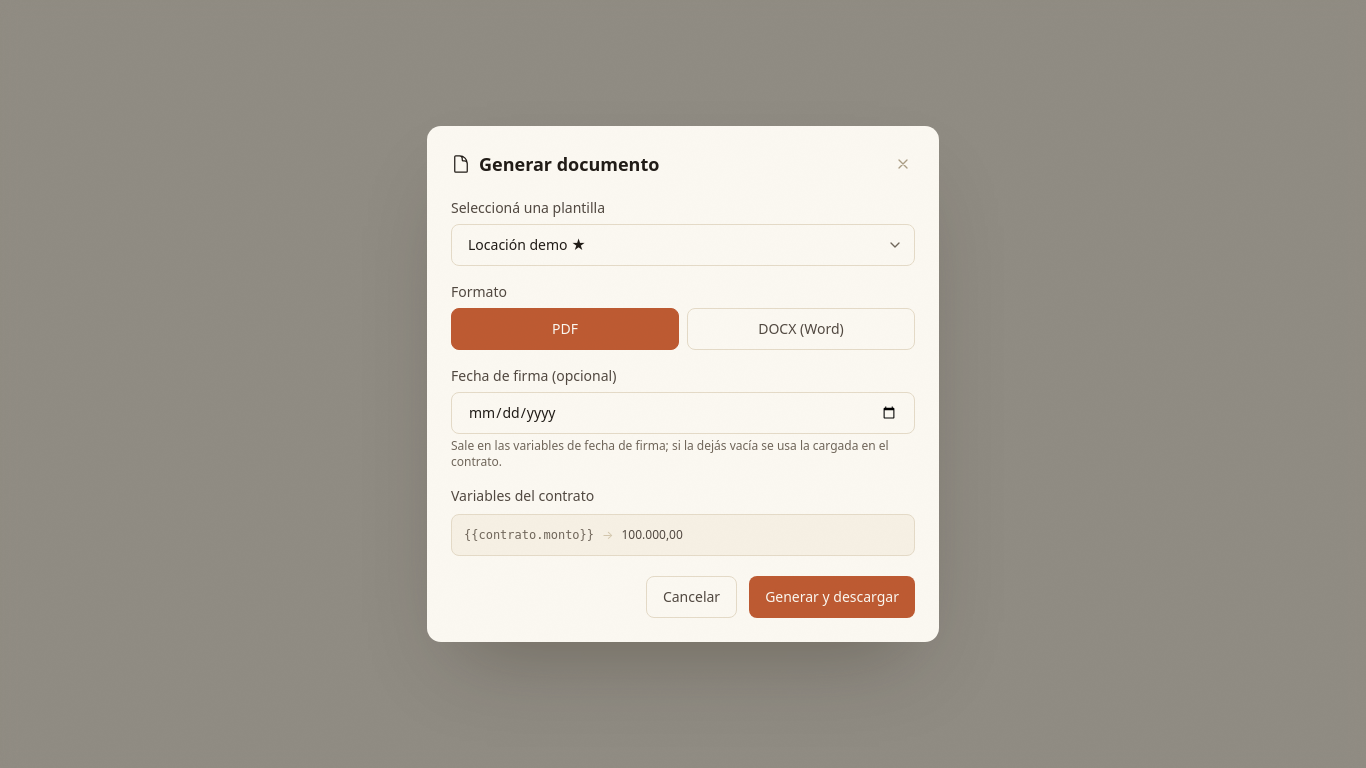
Test: GenerateDocumentModal: fecha de firma › cualquier otro error muestra el aviso genérico
Expected: the dropdown labelled "Seleccioná una plantilla" is shown, [451,224,915,266]
Click the button "Generar y descargar": x=832, y=597 [749,576,915,618]
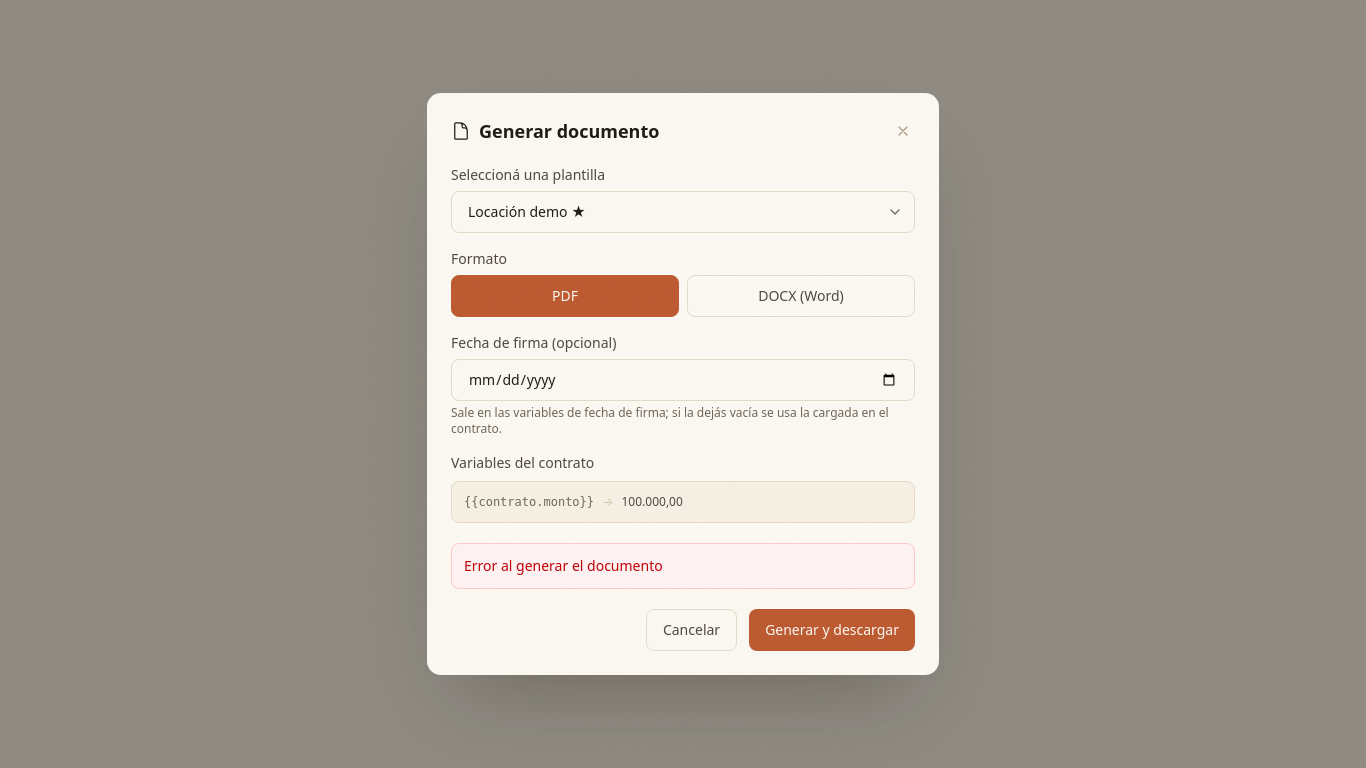
Expected: the text "Error al generar el documento" is shown, [451,543,915,589]
